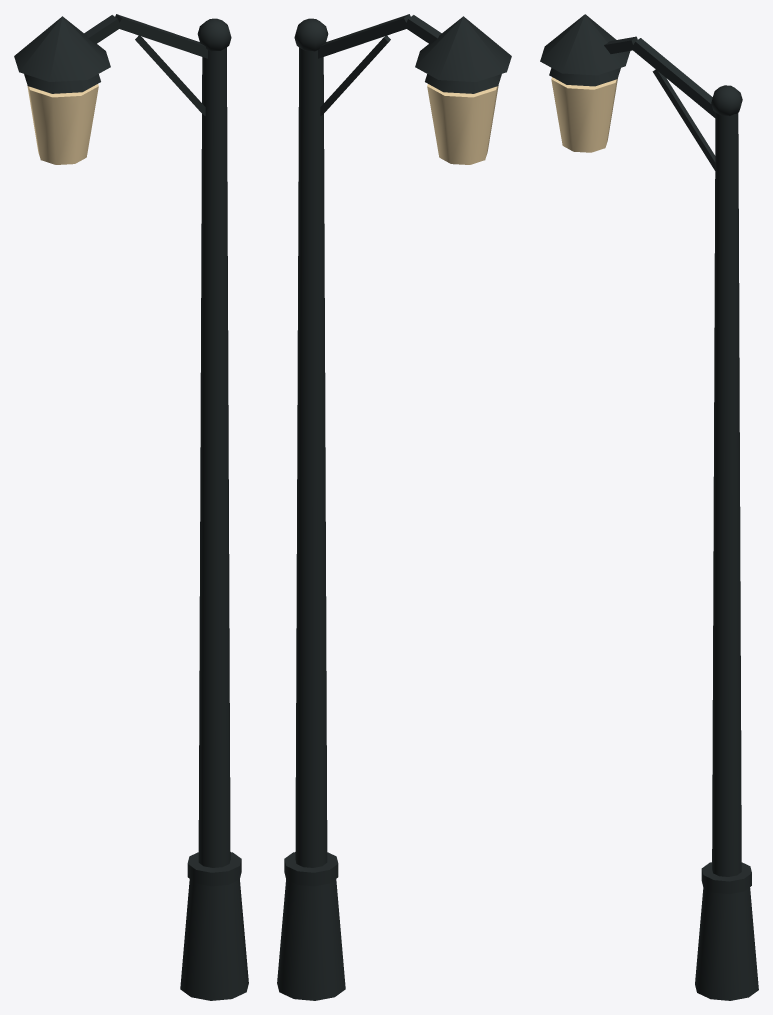
Rendered from lamp-gable.obj.
3 views of the same model, side by side, from view 1: azimuth 30°, elevation 25°; view 2: azimuth 150°, elevation 25°; view 3: azimuth 330°, elevation 25° (orthographic). The views are drawn at different scales.
Parts seen in each view (by area): view 1: part3, part1, part9, part10, part5, part2, part8, part4, part7.nocast, part6; view 2: part3, part1, part9, part10, part5, part2, part4, part8, part7.nocast, part6; view 3: part3, part1, part9, part10, part5, part2, part7.nocast, part4, part8.
Part boxes in pixels (<box>): part3: <box>198,47,230,867</box>; part1: <box>180,879,248,1000</box>; part9: <box>27,84,98,164</box>; part10: <box>14,16,110,81</box>; part5: <box>115,14,207,58</box>; part2: <box>187,852,241,886</box>; part8: <box>24,74,100,93</box>; part4: <box>197,18,231,51</box>; part7.nocast: <box>135,35,205,115</box>; part6: <box>84,15,120,44</box>; part3: <box>295,47,327,867</box>; part1: <box>277,879,345,1000</box>; part9: <box>427,84,498,164</box>; part10: <box>415,16,511,81</box>; part5: <box>318,14,410,58</box>; part2: <box>284,852,338,886</box>; part4: <box>294,18,328,51</box>; part8: <box>425,74,501,93</box>; part7.nocast: <box>320,35,390,115</box>; part6: <box>406,15,441,44</box>; part3: <box>712,112,741,876</box>; part1: <box>695,887,758,1000</box>; part9: <box>551,77,617,152</box>; part10: <box>540,14,630,75</box>; part5: <box>631,38,715,118</box>; part2: <box>701,862,751,894</box>; part7.nocast: <box>652,69,715,170</box>; part4: <box>711,85,742,115</box>; part8: <box>549,68,620,86</box>.
Size of the model in its own units: 1.03 by 4.43 by 0.4.
